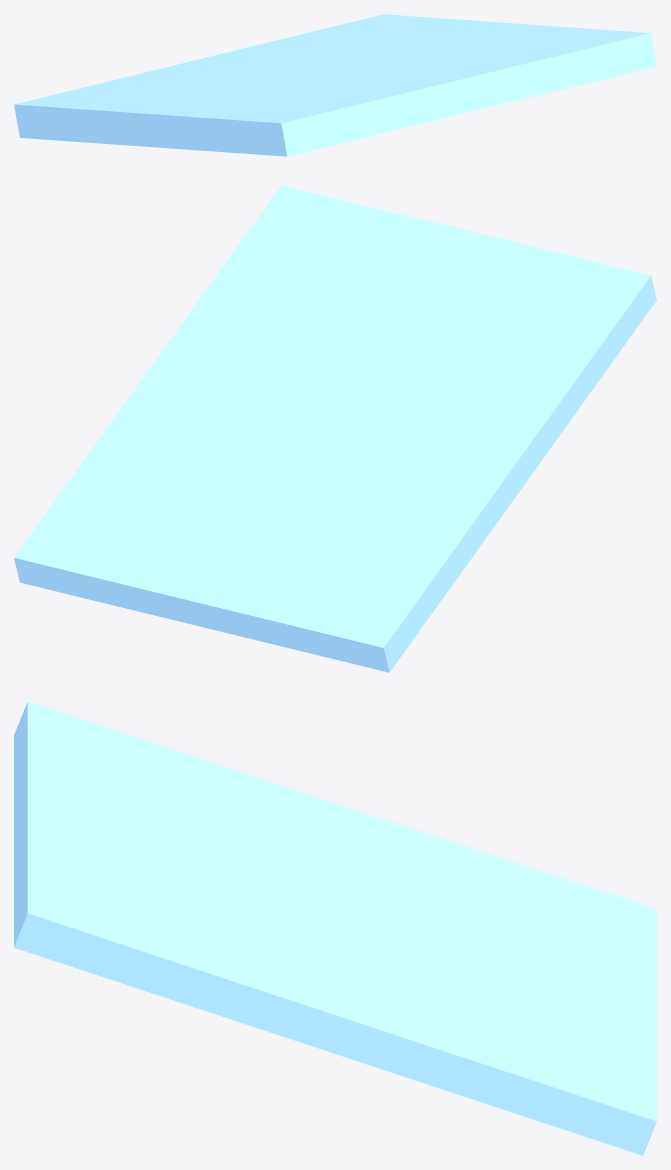
Rendered from tablet.glb.
The picture shows the model from 3 angles, top to bottom: view 1: azimuth 30°, elevation 25°; view 2: azimuth 150°, elevation 25°; view 3: azimuth 270°, elevation 25°; orthographic projection. The views are drawn at different scales.
Visible parts, largest first — view 1: tablet; view 2: tablet; view 3: tablet.
Boxes of the visible parts, <box> form: tablet: <box>14,14,656,156</box>; tablet: <box>14,185,656,672</box>; tablet: <box>14,701,656,1155</box>.
Size of the model in its own units: 0.15 by 0.0799 by 0.192.
